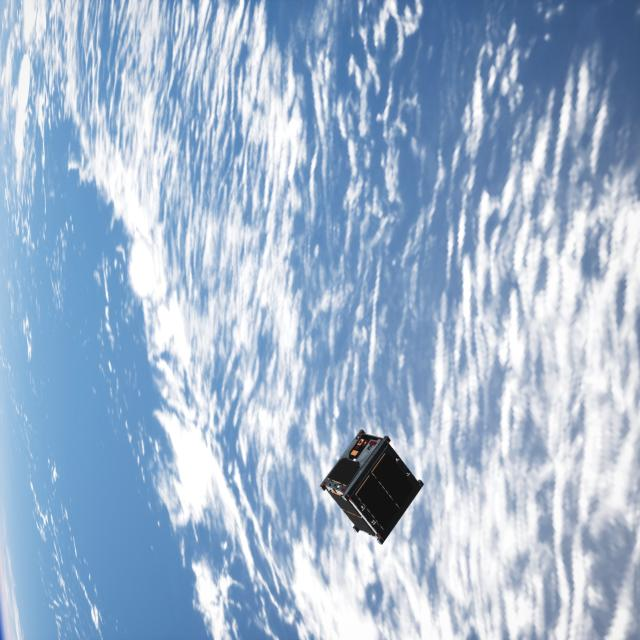medium_debris: (314, 430, 424, 545)
